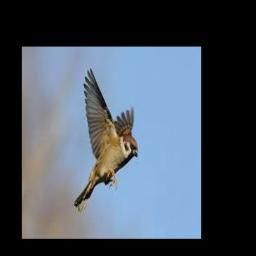Sparrow: (74, 68, 138, 214)
